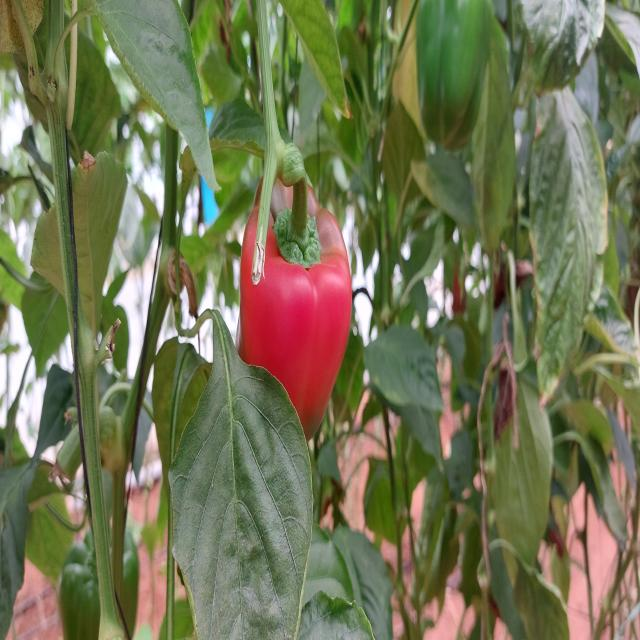Green--Not-ready-to-harvest: (418, 6, 504, 160)
Red-Ready-to-Harvest: (239, 188, 351, 438)
